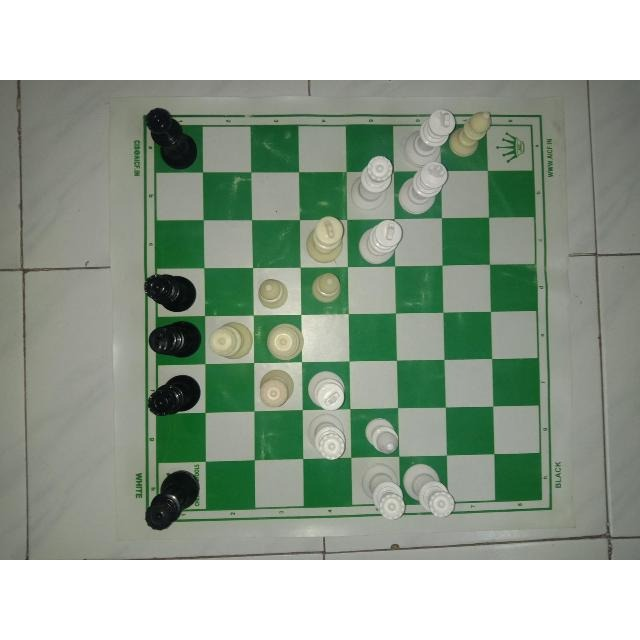black-king: (141, 319, 204, 359)
black-queen: (144, 101, 202, 173), (144, 469, 204, 533), (140, 373, 204, 419), (140, 271, 201, 311)
white-bishop: (451, 106, 494, 158), (368, 414, 400, 454), (257, 274, 289, 312), (308, 271, 343, 305)
white-king: (404, 107, 456, 161), (399, 161, 449, 215), (358, 218, 402, 266), (305, 213, 347, 263), (304, 367, 348, 410)
white-queen: (404, 462, 456, 522), (349, 153, 397, 213), (358, 463, 403, 520), (302, 411, 349, 462), (208, 314, 256, 362), (265, 320, 313, 360), (256, 365, 296, 411)
